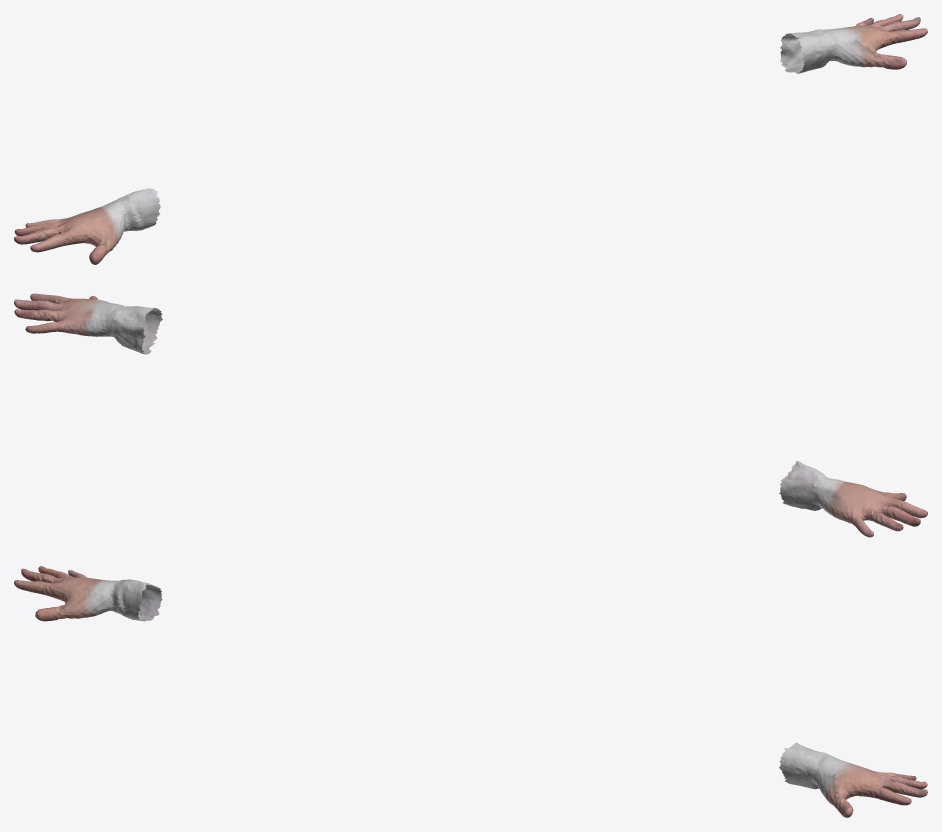
File: animation_lowres.obj
The picture shows the model from 3 angles, top to bottom: view 1: azimuth 30°, elevation 25°; view 2: azimuth 150°, elevation 25°; view 3: azimuth 330°, elevation 25°; orthographic projection.
Size of the model in its own units: 1.76 by 0.0809 by 0.1754.
